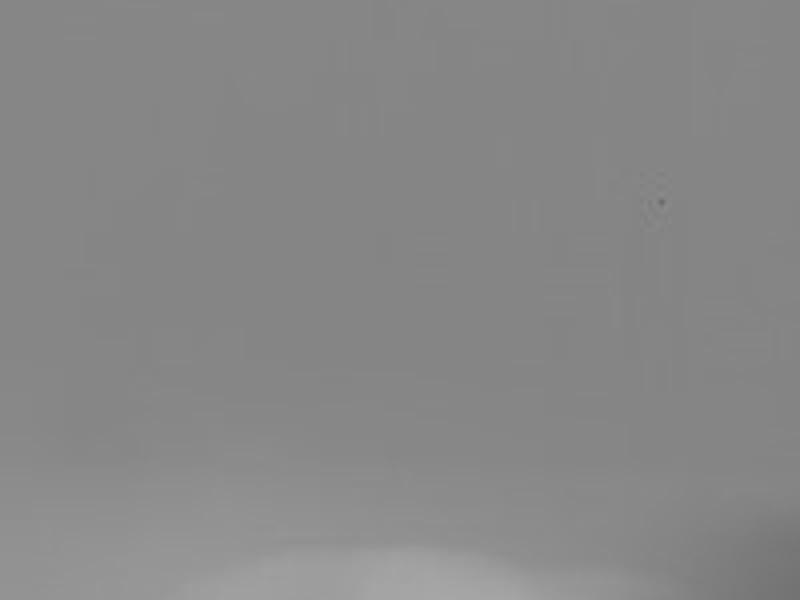defect: (653, 193, 671, 210)
